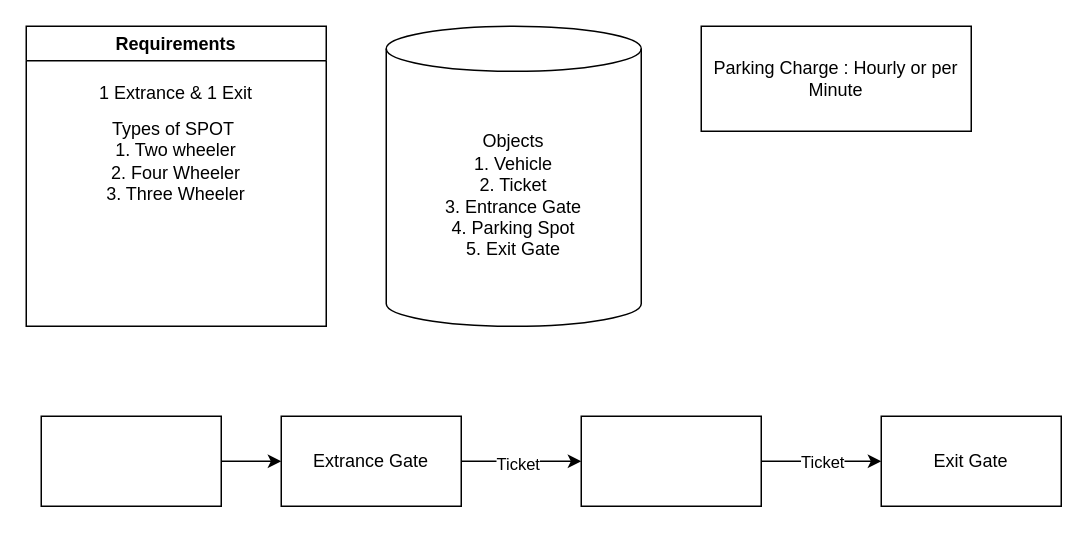
Some shapes in this 1088 by 533 pixel diagram are drawn without their labels. Here are the shapes that lost their labels. From the top down, the centre of each, then its label:
At point (130, 460): "Vehicle (Done)".
At point (670, 460): "Parking Spot (Done)".
